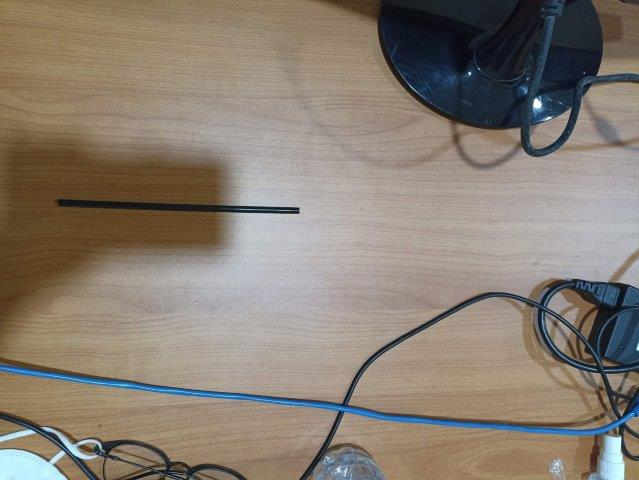sedotan: (60, 199, 300, 214)
